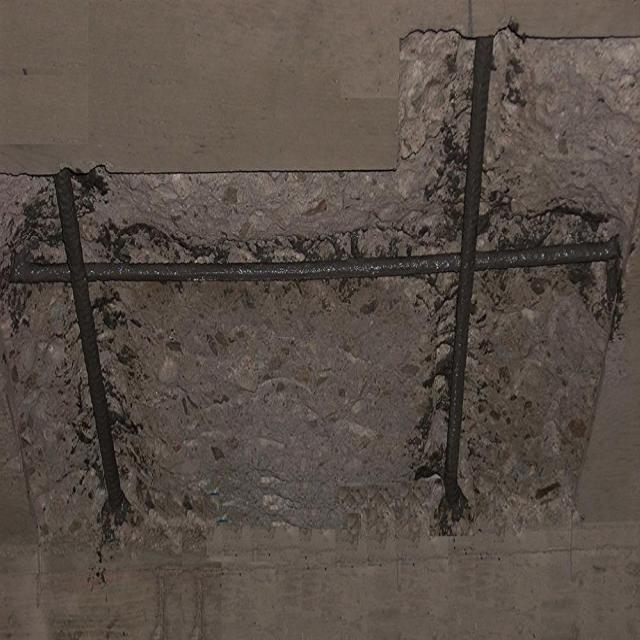Rebar: (0, 24, 639, 553)
